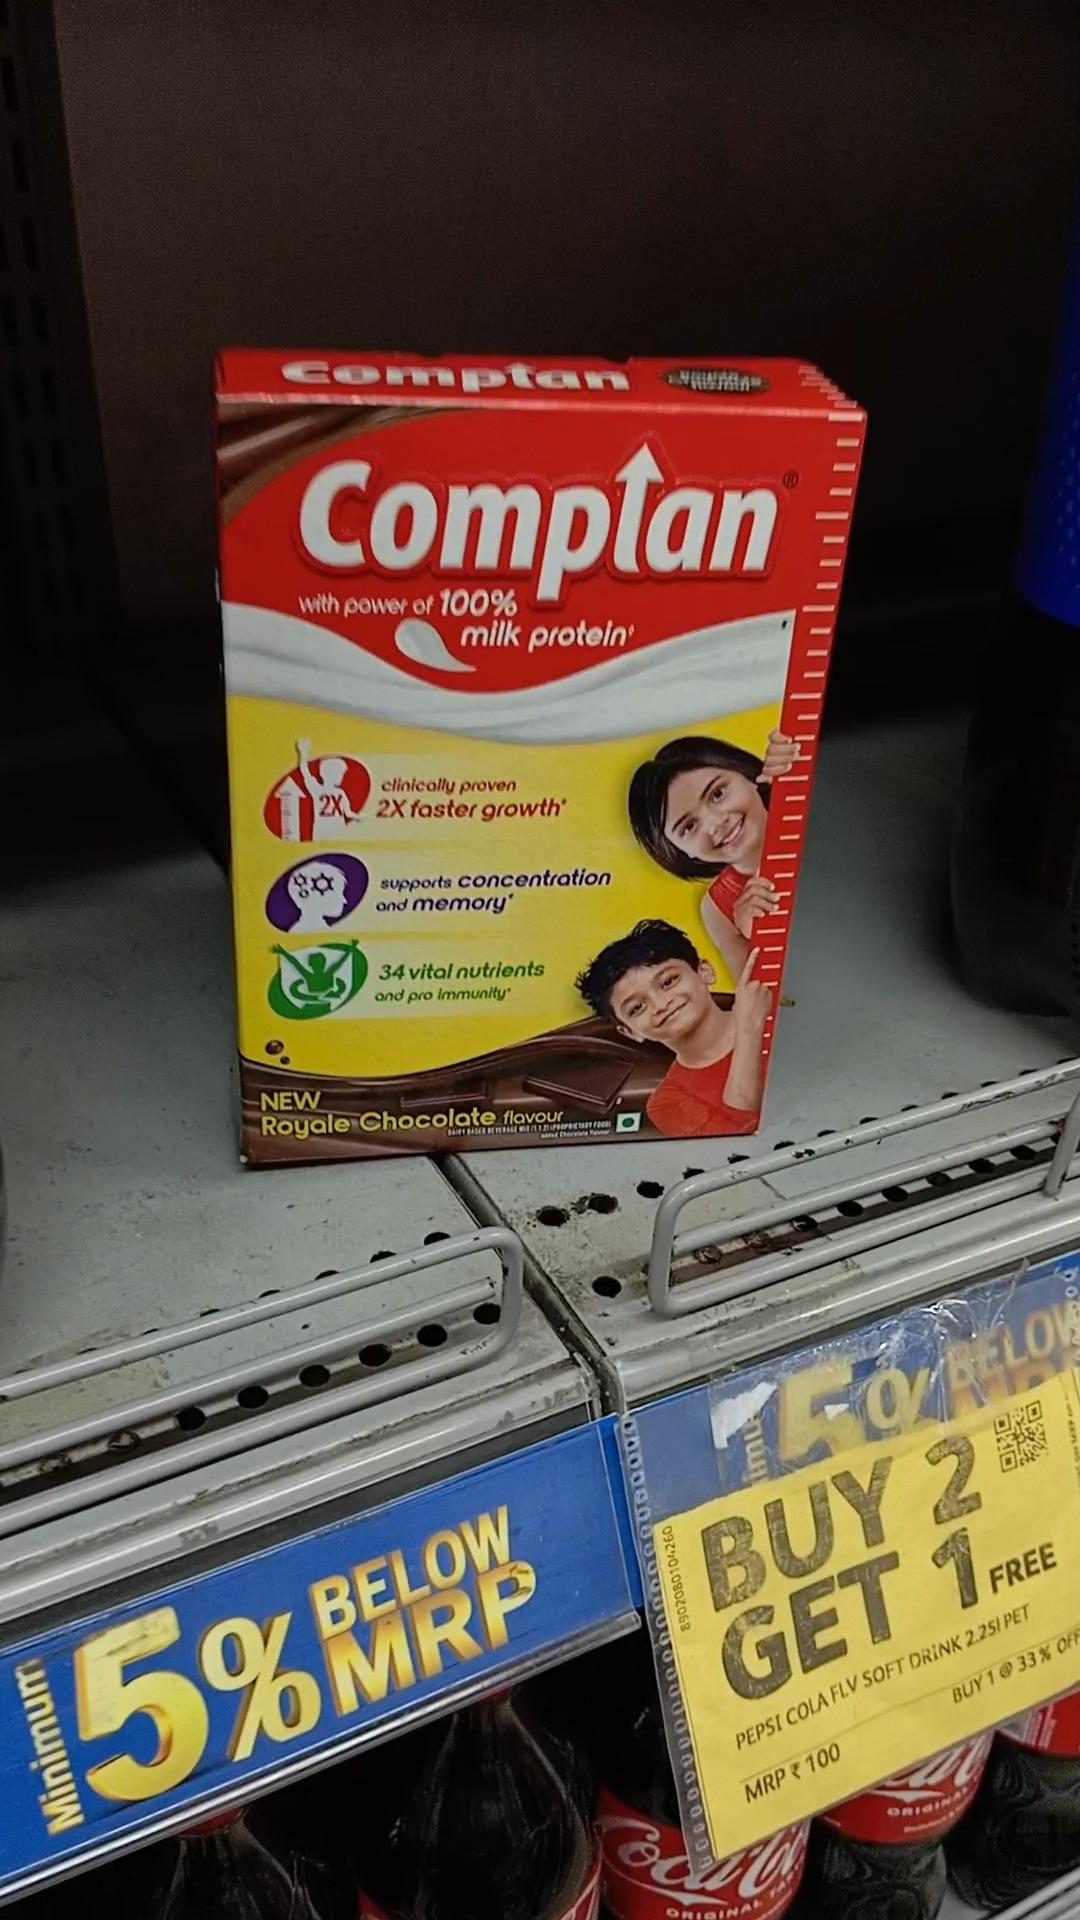COMPLAN_CHOCOLATE_200_GMS_PACK: (225, 390, 781, 1170)
